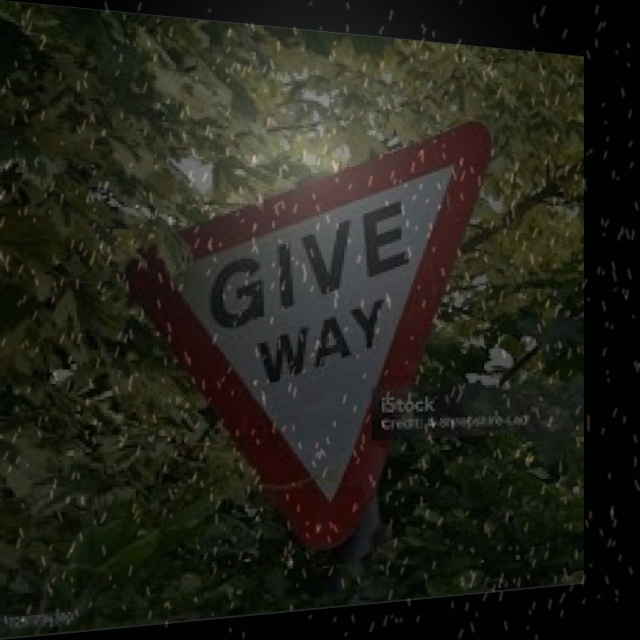Give_Way: (129, 110, 479, 544)
